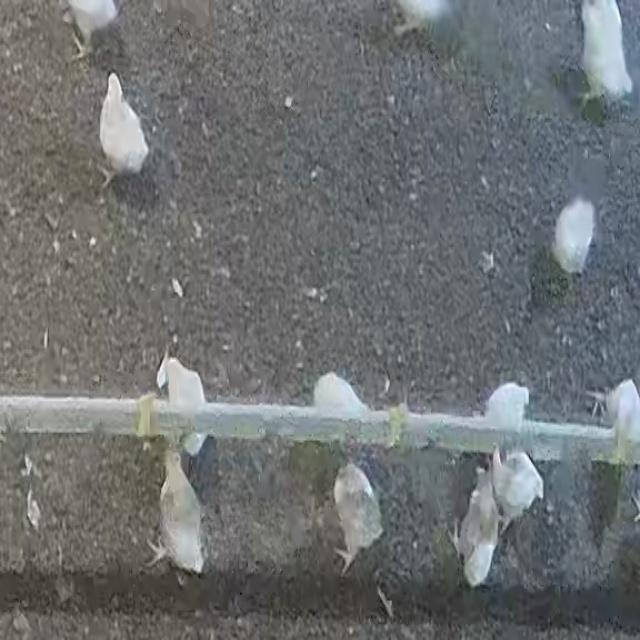chicken: (144, 446, 208, 576), (92, 70, 152, 190), (329, 460, 383, 577), (444, 466, 495, 586), (158, 353, 215, 460), (486, 448, 546, 537), (551, 192, 598, 276)
